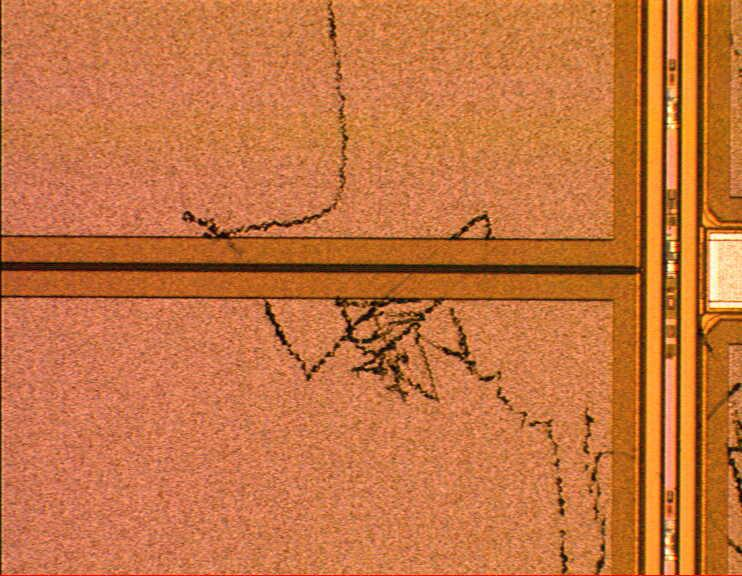SCRATCH: (180, 1, 742, 576)
